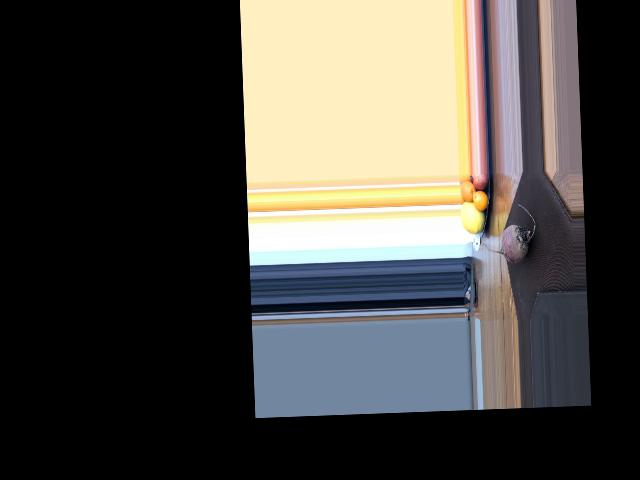beet: (483, 203, 536, 264)
